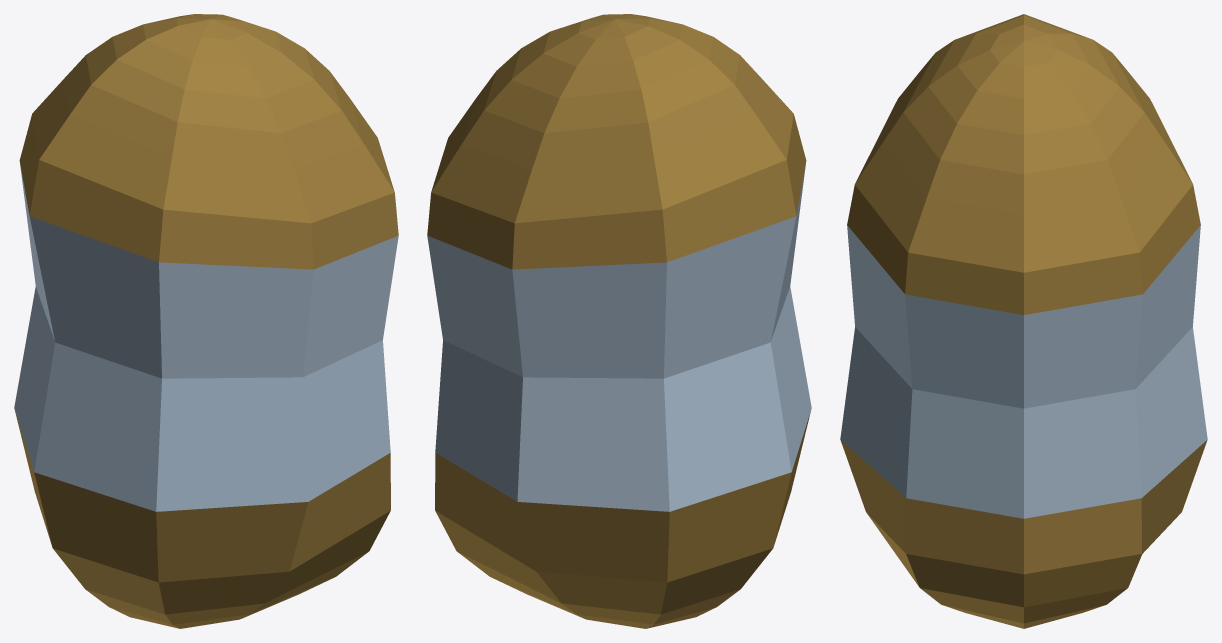
File: axe_seed.glb
The picture shows the model from 3 angles, left to right: view 1: azimuth 30°, elevation 25°; view 2: azimuth 150°, elevation 25°; view 3: azimuth 270°, elevation 25°; orthographic projection. The views are drawn at different scales.
Parts seen in each view (by area): view 1: seme2; view 2: seme2; view 3: seme2.
Boxes of the visible parts, x1,y1,x2,y2 form: seme2: (14, 14, 398, 628); seme2: (427, 14, 811, 628); seme2: (840, 14, 1207, 628).
Bounding box in the file's own units: 1.81 × 2.92 × 1.7.
